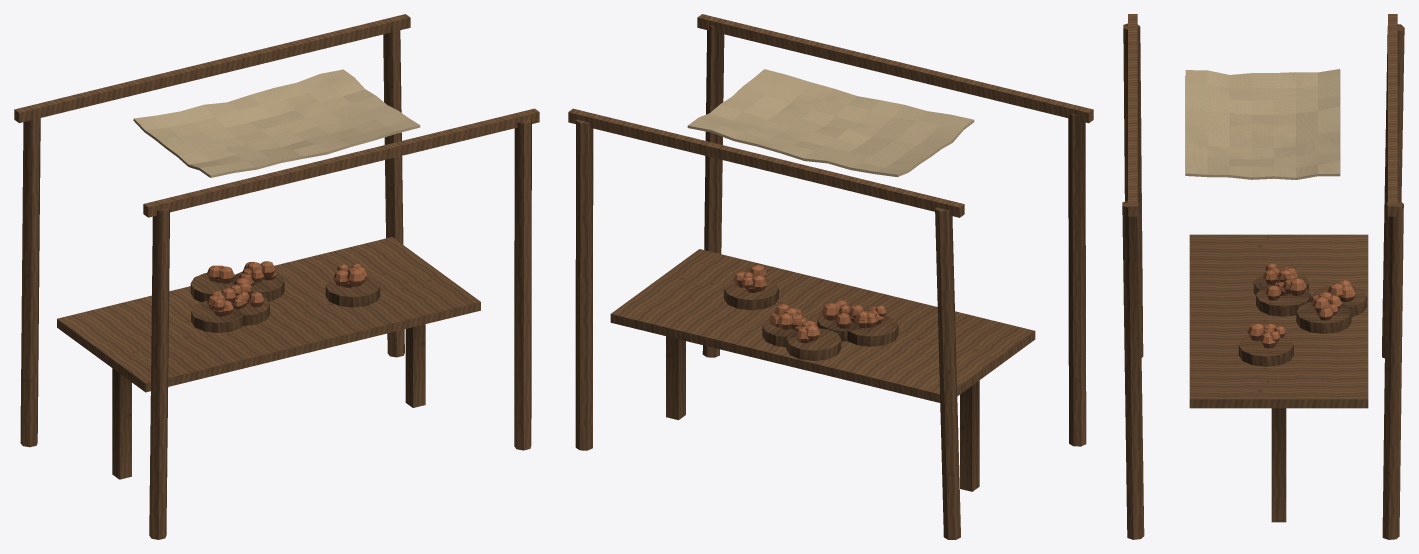
Rendered from canopy_fruit.hi.glb.
3 renders of one model, left to right at view 1: azimuth 30°, elevation 25°; view 2: azimuth 150°, elevation 25°; view 3: azimuth 270°, elevation 25°, orthographic.
Visible parts, largest first — view 1: canopy_fruit; view 2: canopy_fruit; view 3: canopy_fruit.
Boxes of the visible parts, bbox=[...] form: canopy_fruit: bbox=[14, 14, 539, 539]; canopy_fruit: bbox=[568, 14, 1093, 539]; canopy_fruit: bbox=[1122, 14, 1404, 539].
Size of the model in its own units: 2.8 by 2.29 by 1.74.
3 materials, 3 textured.
